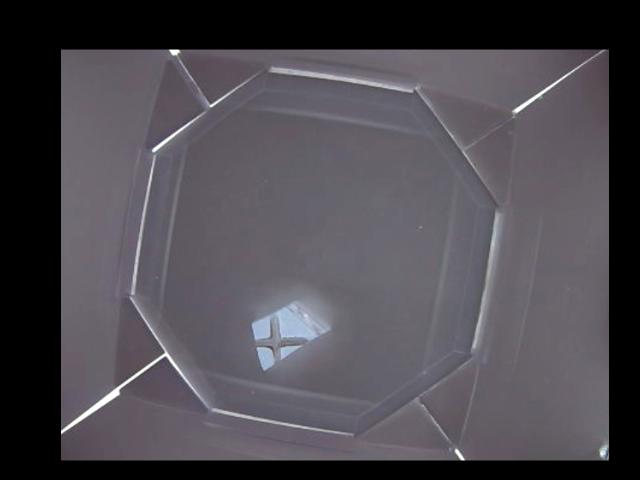China: (250, 301, 329, 369)
